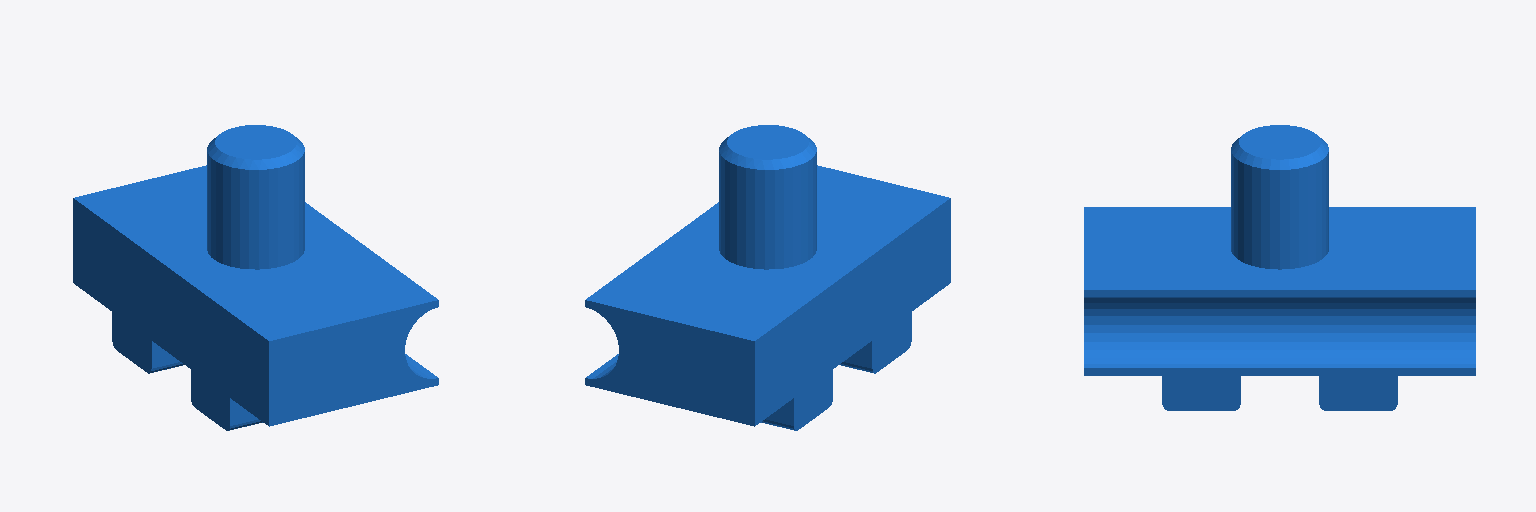
The model's file is Clamp.obj.
3 views of the same model, side by side, from view 1: azimuth 30°, elevation 25°; view 2: azimuth 150°, elevation 25°; view 3: azimuth 270°, elevation 25° (orthographic).
Visible parts, largest first — view 1: Clamp; view 2: Clamp; view 3: Clamp.
Part boxes in pixels (x1,y1,x2,y2): Clamp: (73,125,438,430); Clamp: (585,125,950,430); Clamp: (1084,125,1475,410).
Size of the model in its own units: 50 by 64 by 100.